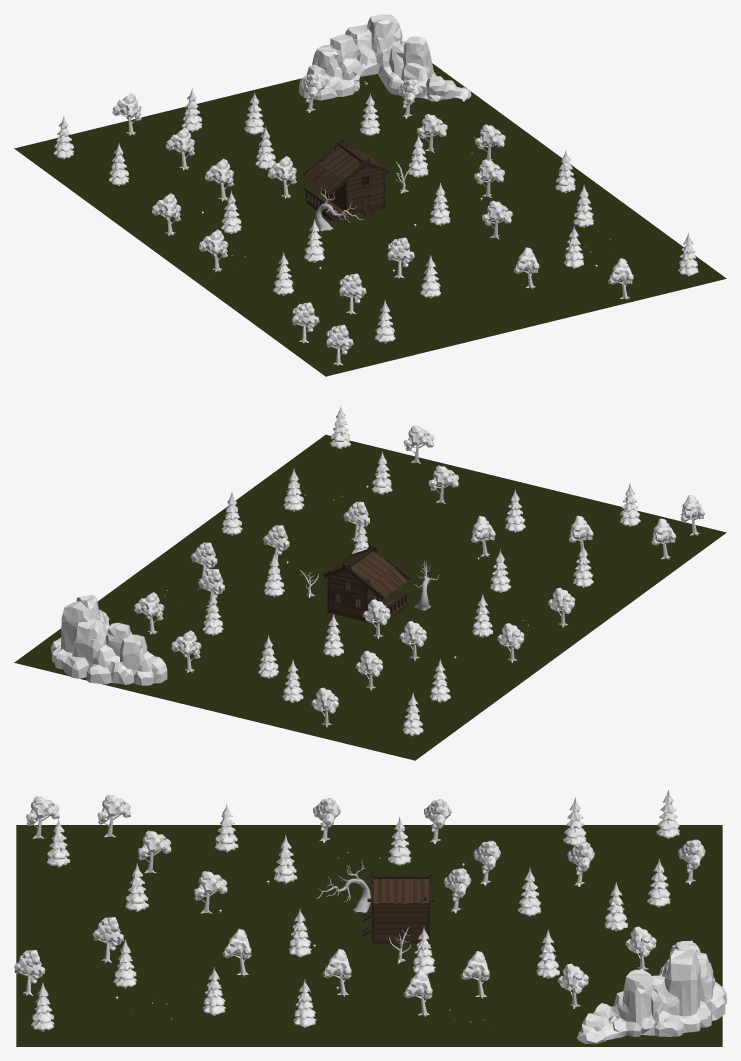
The model's file is exterior.fbx.
3 views of the same model, one above another, from view 1: azimuth 30°, elevation 25°; view 2: azimuth 150°, elevation 25°; view 3: azimuth 270°, elevation 25° (orthographic). The views are drawn at different scales.
Parts seen in each view (by area): view 1: Plane, Rock_1_.002, techo, pared, _6_tree.009, _6_tree.008, _6_tree.011, _6_tree.010, _6_tree.017, _6_tree.016, _6_tree.004, _6_tree.003 (+6 smaller); view 2: Plane, Rock_1_.002, techo, pared, _6_tree.014, _6_tree.015, _6_tree.012, _6_tree.013, _6_tree.004, _6_tree.006, _6_tree.007, _6_tree.016 (+2 smaller); view 3: Plane, Rock_1_.002, pared, techo, _6_tree.012, _6_tree.013, _6_tree.011, _6_tree.009, _6_tree.008, _6_tree.010, _6_tree.014, _6_tree.015 (+28 smaller).
Boxes of the visible parts, x1=… form: Plane: x1=14, y1=63, x2=726, y2=376; Rock_1_.002: x1=299, y1=14, x2=471, y2=101; techo: x1=302, y1=139, x2=389, y2=195; pared: x1=304, y1=171, x2=385, y2=218; _6_tree.009: x1=326, y1=324, x2=353, y2=365; _6_tree.008: x1=387, y1=237, x2=414, y2=278; _6_tree.011: x1=339, y1=273, x2=366, y2=314; _6_tree.010: x1=292, y1=302, x2=319, y2=343; _6_tree.017: x1=199, y1=229, x2=228, y2=272; _6_tree.016: x1=152, y1=193, x2=181, y2=235; _6_tree.004: x1=112, y1=93, x2=141, y2=135; _6_tree.003: x1=474, y1=159, x2=504, y2=197; Plane: x1=14, y1=434, x2=726, y2=760; Rock_1_.002: x1=51, y1=595, x2=167, y2=685; techo: x1=323, y1=543, x2=410, y2=599; pared: x1=327, y1=576, x2=409, y2=622; _6_tree.014: x1=134, y1=592, x2=164, y2=634; _6_tree.015: x1=171, y1=630, x2=201, y2=672; _6_tree.012: x1=428, y1=465, x2=458, y2=503; _6_tree.013: x1=403, y1=425, x2=434, y2=463; _6_tree.004: x1=311, y1=687, x2=338, y2=727; _6_tree.006: x1=399, y1=621, x2=426, y2=660; _6_tree.007: x1=355, y1=650, x2=382, y2=690; _6_tree.016: x1=497, y1=623, x2=524, y2=662; Plane: x1=16, y1=825, x2=722, y2=1046; Rock_1_.002: x1=576, y1=940, x2=726, y2=1044; pared: x1=367, y1=881, x2=434, y2=944; techo: x1=371, y1=872, x2=431, y2=907; _6_tree.012: x1=93, y1=917, x2=123, y2=962; _6_tree.013: x1=14, y1=950, x2=44, y2=995; _6_tree.011: x1=138, y1=830, x2=171, y2=873; _6_tree.009: x1=26, y1=796, x2=59, y2=838; _6_tree.008: x1=194, y1=871, x2=227, y2=913; _6_tree.010: x1=97, y1=794, x2=130, y2=837; _6_tree.014: x1=557, y1=963, x2=588, y2=1008; _6_tree.015: x1=625, y1=926, x2=656, y2=969.
Size of the model in its own units: 11017 by 1623 by 14963.
